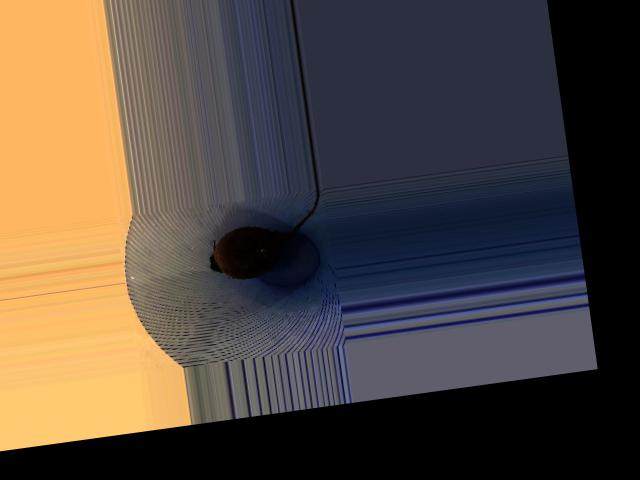beet: (200, 188, 328, 283)
